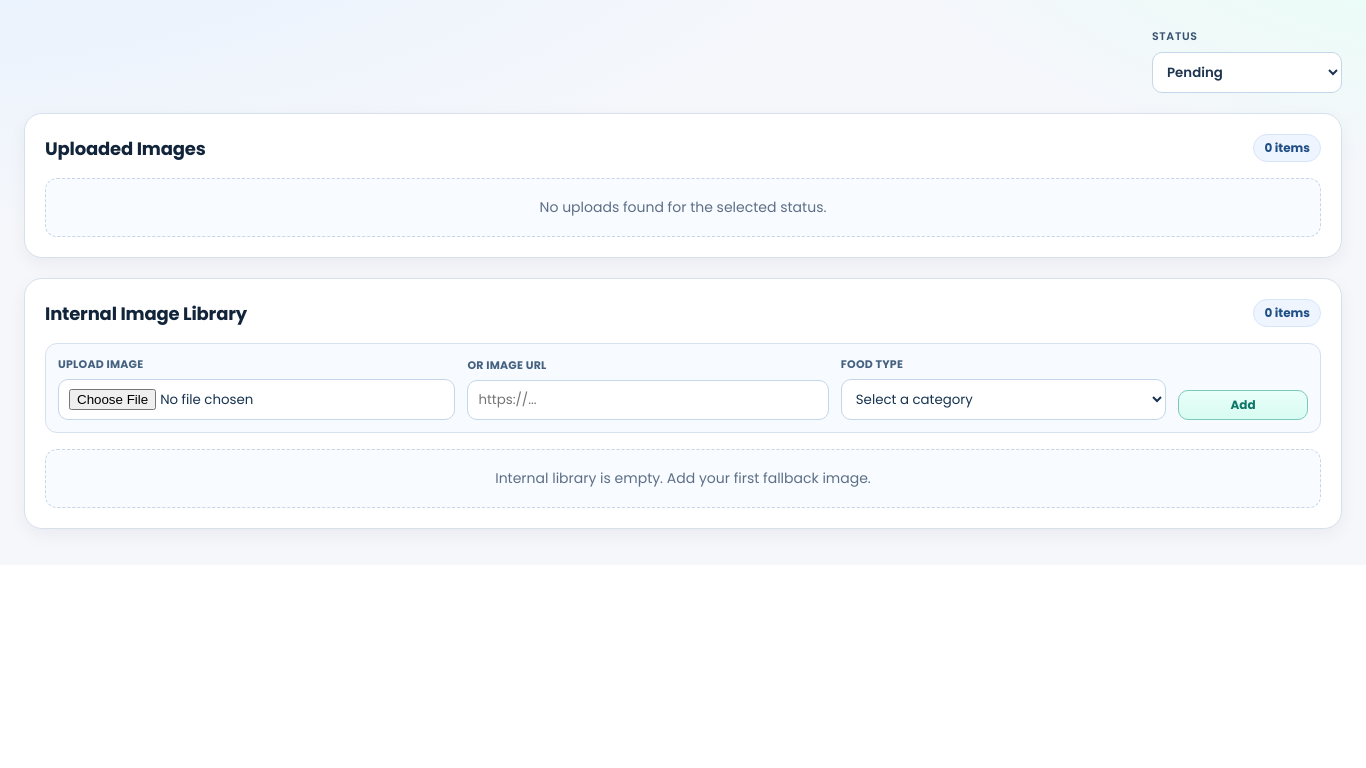
Test: AdminImages › requires food type before adding library item
Click the button "Add".
click(1243, 405)  # box [1178, 390, 1308, 420]
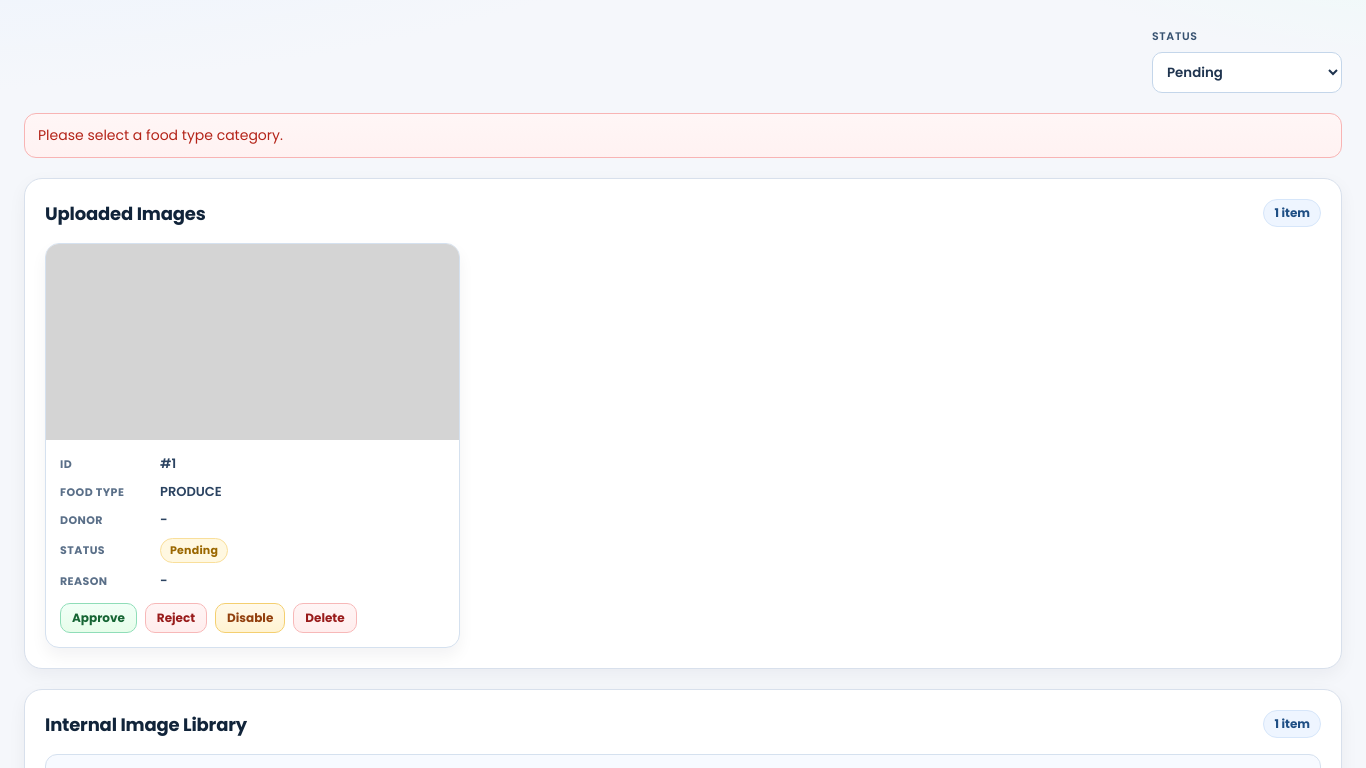
Now the text "Please select a food type category." is shown, box [24, 113, 1342, 158]
